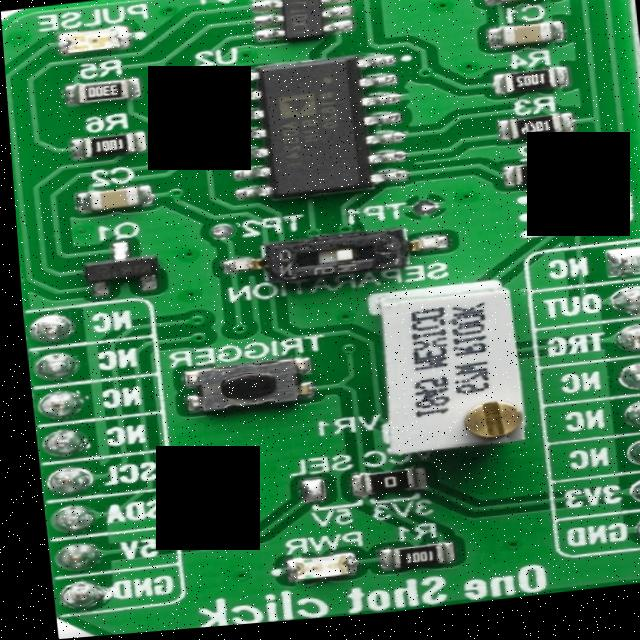2235: (267, 233, 409, 289), (196, 364, 297, 411)
4439: (74, 247, 151, 295)
IC: (242, 53, 399, 202), (264, 0, 336, 42)
LED: (37, 30, 124, 69), (278, 549, 353, 589)
capacitor 1V5: (76, 181, 143, 219), (502, 25, 557, 66), (488, 0, 549, 18)
potentiometer POT1: (344, 285, 523, 459)
resistor IR1: (68, 129, 146, 163), (503, 162, 566, 199), (493, 75, 568, 106), (497, 118, 568, 150), (65, 81, 131, 113), (346, 469, 399, 502), (377, 549, 428, 576)
